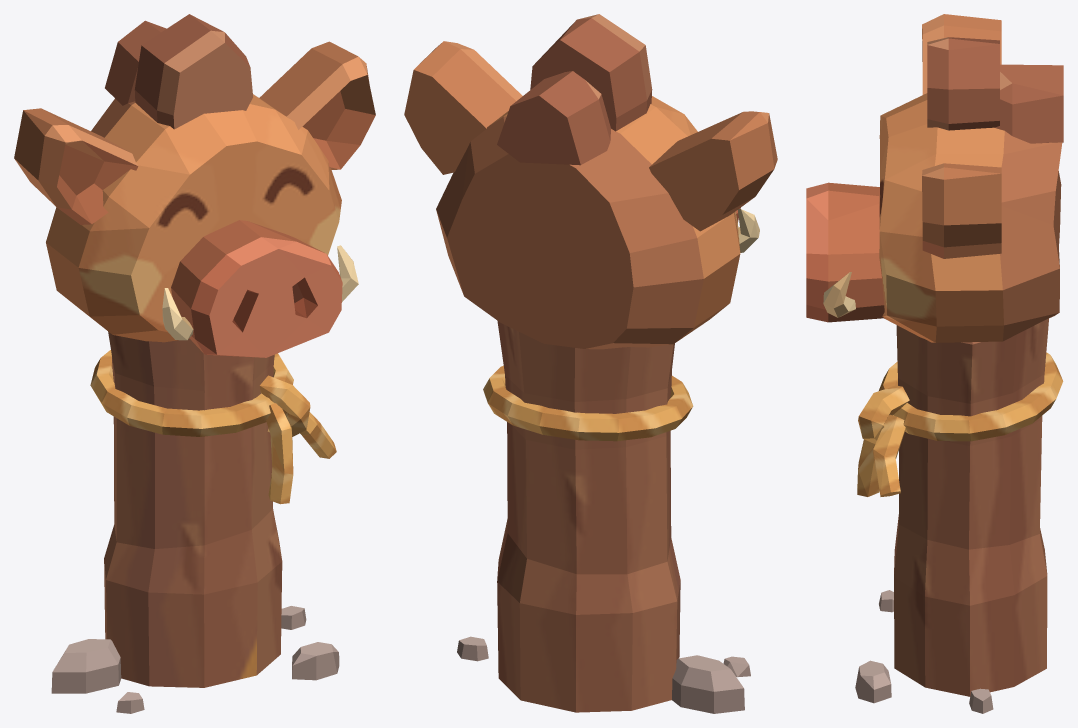
Rendered from Chunky_Boar_Log_Totem.glb.
3 views of the same model, side by side, from view 1: azimuth 30°, elevation 25°; view 2: azimuth 150°, elevation 25°; view 3: azimuth 270°, elevation 25° (orthographic). The views are drawn at different scales.
Parts seen in each view (by area): view 1: Chunky Boar Log Totem; view 2: Chunky Boar Log Totem; view 3: Chunky Boar Log Totem.
Part boxes in pixels (<box>): Chunky Boar Log Totem: <box>14,14,375,713</box>; Chunky Boar Log Totem: <box>404,14,777,713</box>; Chunky Boar Log Totem: <box>806,14,1063,713</box>.
Size of the model in its own units: 1.35 by 2.42 by 0.9096.
Materials: 1 (1 with a texture image).
